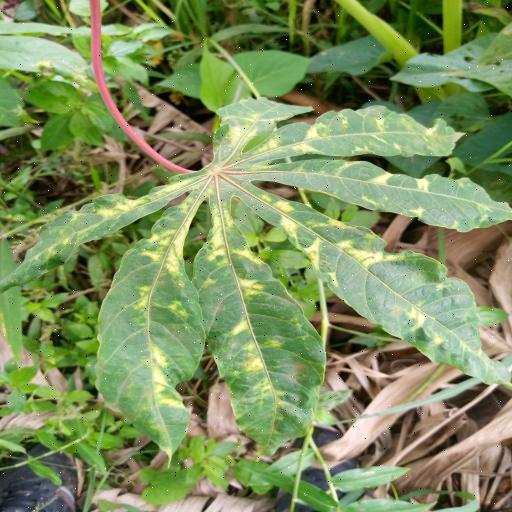Cassava_Mosaic: (3, 94, 512, 460)
